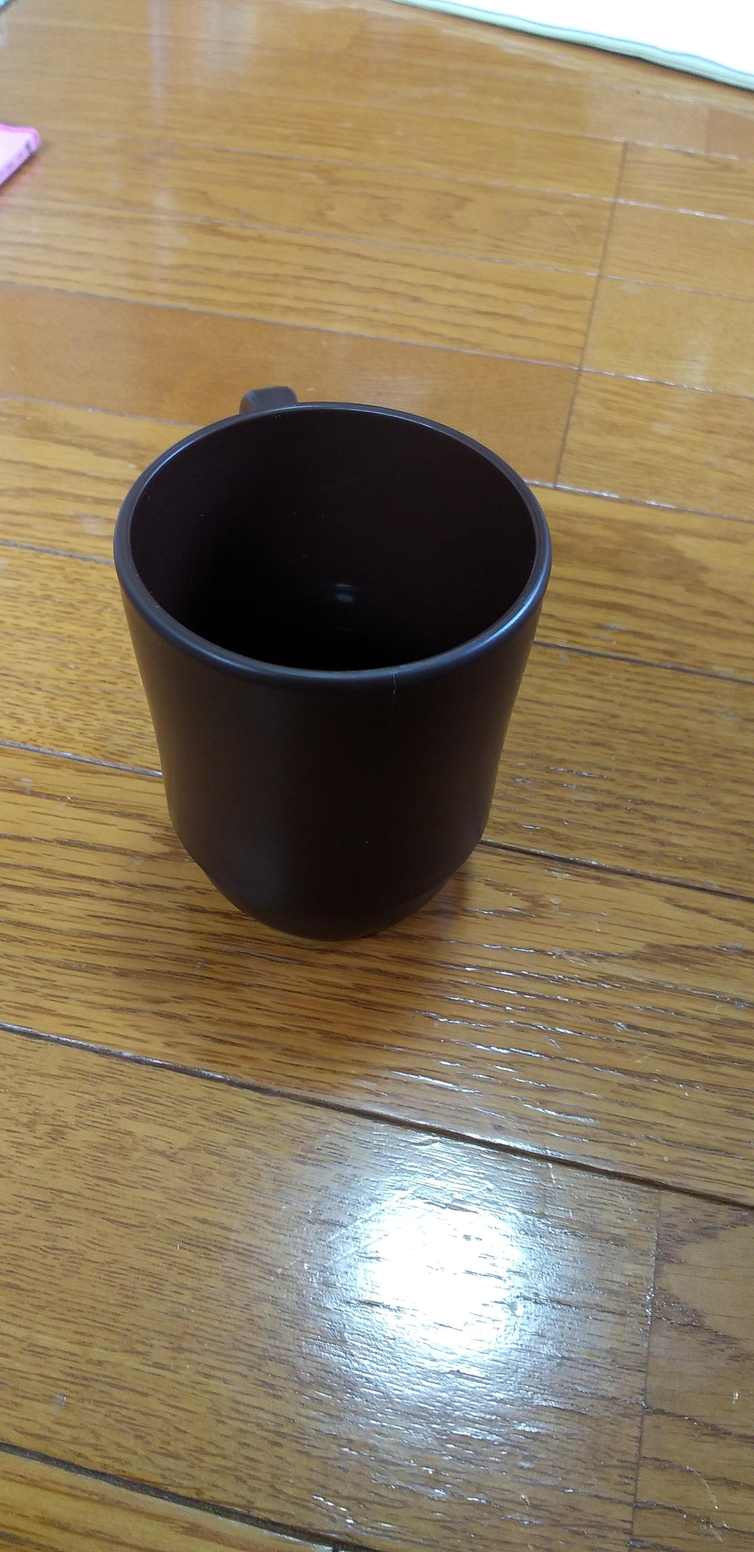mug-real100-3d100: (114, 388, 551, 938)
